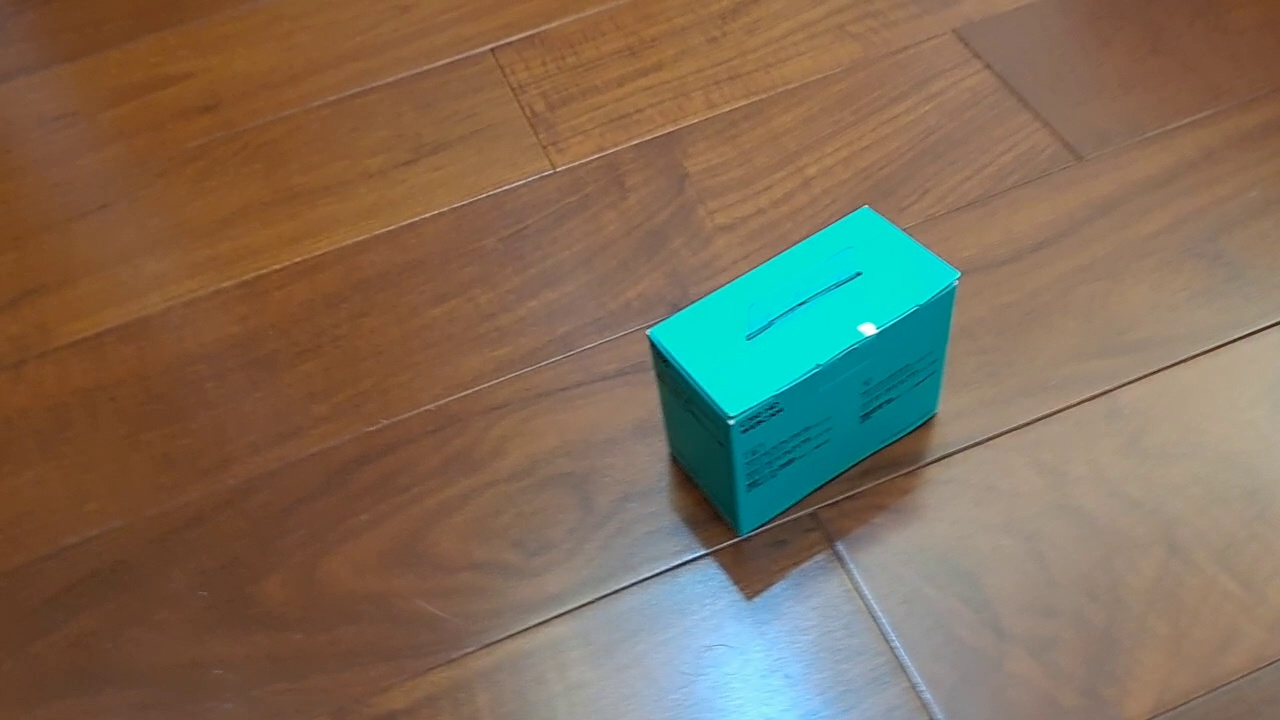webcam: (643, 203, 963, 539)
